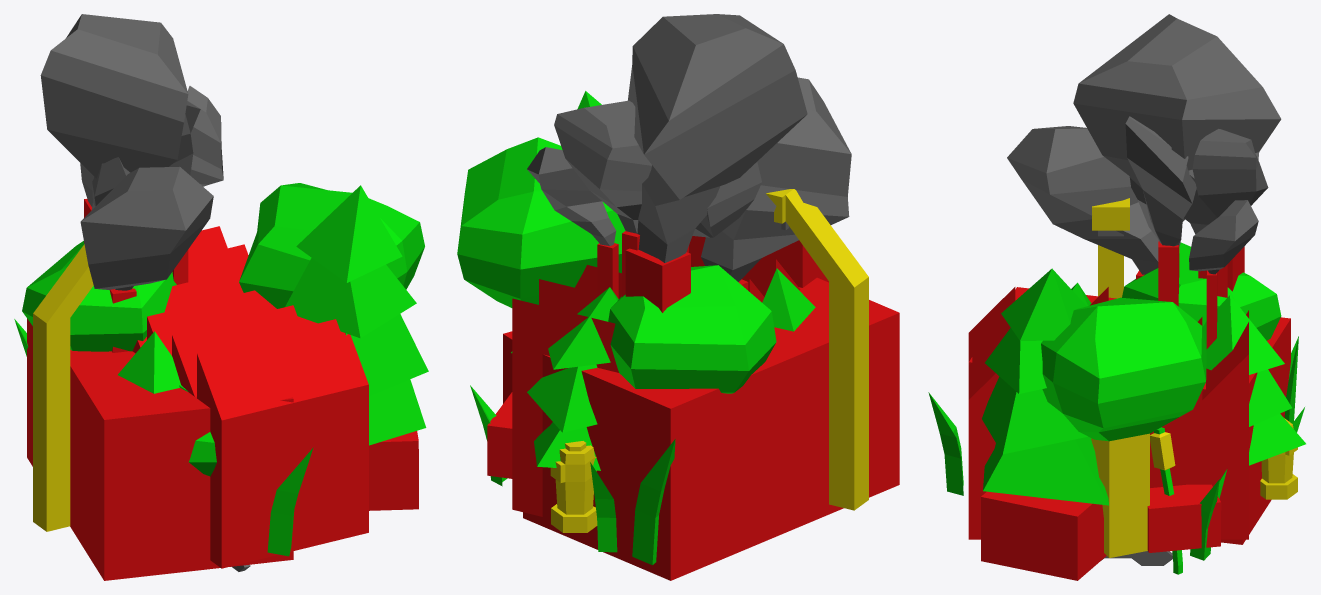
Rendered from Models_Fixed.fbx.
3 renders of one model, left to right at view 1: azimuth 30°, elevation 25°; view 2: azimuth 150°, elevation 25°; view 3: azimuth 270°, elevation 25°, orthographic. The views are drawn at different scales.
Parts seen in each view (by area): view 1: C_Factory1, C_Factory2, A_PineTree, A_LeafTree, C_Street, A_River; view 2: C_Factory1, A_LeafTree, C_Factory2, C_Street, A_PineTree, A_River; view 3: C_Factory1, C_Factory2, A_LeafTree, A_PineTree, A_River, C_Street.
Boxes of the visible parts, <box> form: C_Factory1: <box>27,14,418,580</box>; C_Factory2: <box>92,86,368,568</box>; A_PineTree: <box>118,185,428,445</box>; A_LeafTree: <box>22,183,424,476</box>; C_Street: <box>33,244,93,531</box>; A_River: <box>14,319,313,556</box>; C_Factory1: <box>487,14,899,580</box>; A_LeafTree: <box>457,137,776,393</box>; C_Factory2: <box>512,100,828,516</box>; C_Street: <box>550,189,868,532</box>; A_PineTree: <box>511,91,815,470</box>; A_River: <box>470,385,675,565</box>; C_Factory1: <box>968,14,1290,580</box>; C_Factory2: <box>968,116,1268,539</box>; A_LeafTree: <box>1041,242,1281,557</box>; A_PineTree: <box>982,268,1305,505</box>; A_River: <box>928,336,1304,574</box>; C_Street: <box>1092,198,1297,499</box>.
Size of the model in its own units: 158 by 210 by 145.
